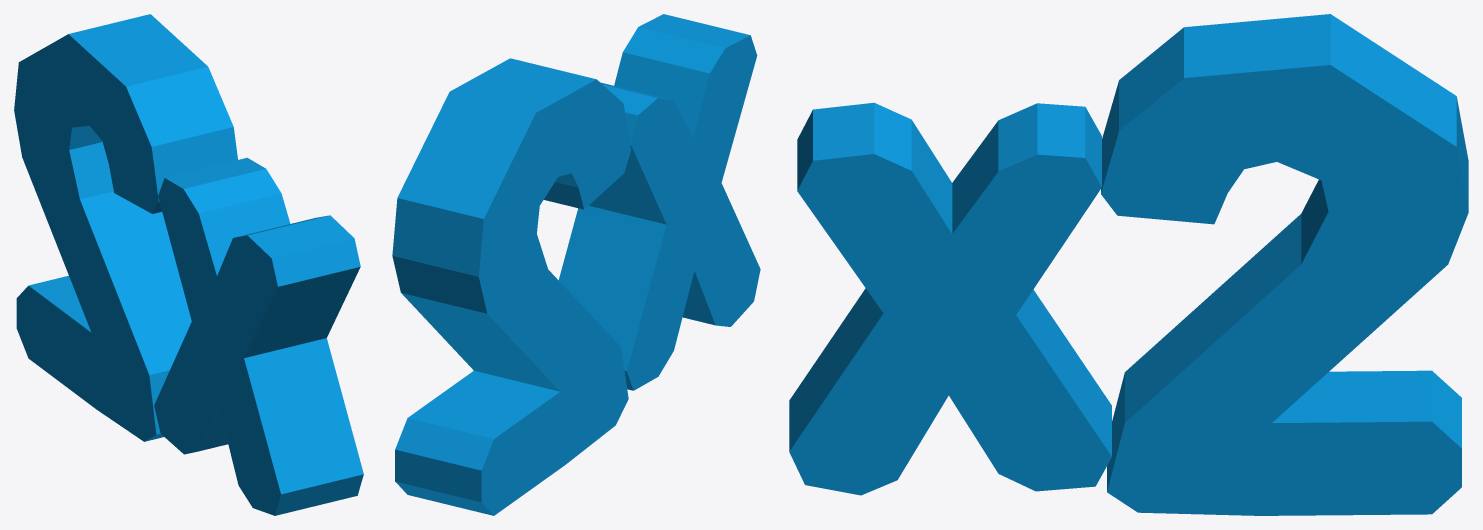
The model's file is 2X_booster.fbx.
3 views of the same model, side by side, from view 1: azimuth 30°, elevation 25°; view 2: azimuth 150°, elevation 25°; view 3: azimuth 270°, elevation 25° (orthographic). The views are drawn at different scales.
Visible parts, largest first — view 1: Cube; view 2: Cube; view 3: Cube.
Boxes of the visible parts, x1,y1,x2,y2 form: Cube: [14, 14, 363, 515]; Cube: [392, 14, 760, 515]; Cube: [789, 14, 1468, 515].
Bounding box in the file's own units: 66.81 × 274 × 374.
